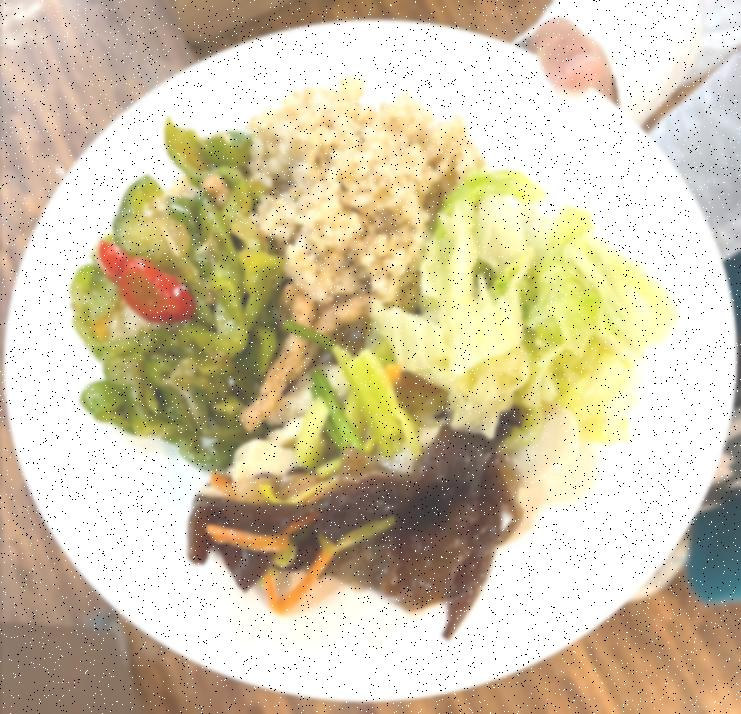big fried chicken leg: (0, 9, 732, 694)
box: (234, 72, 472, 301)
braised fish fillet: (322, 154, 670, 448), (181, 416, 543, 626), (69, 127, 268, 449)
